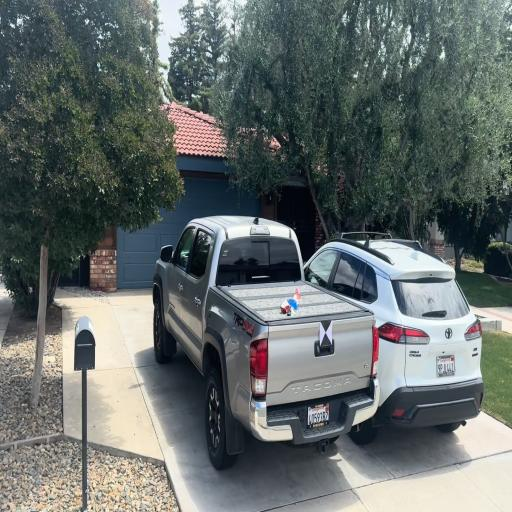target: (320, 320, 332, 347)
